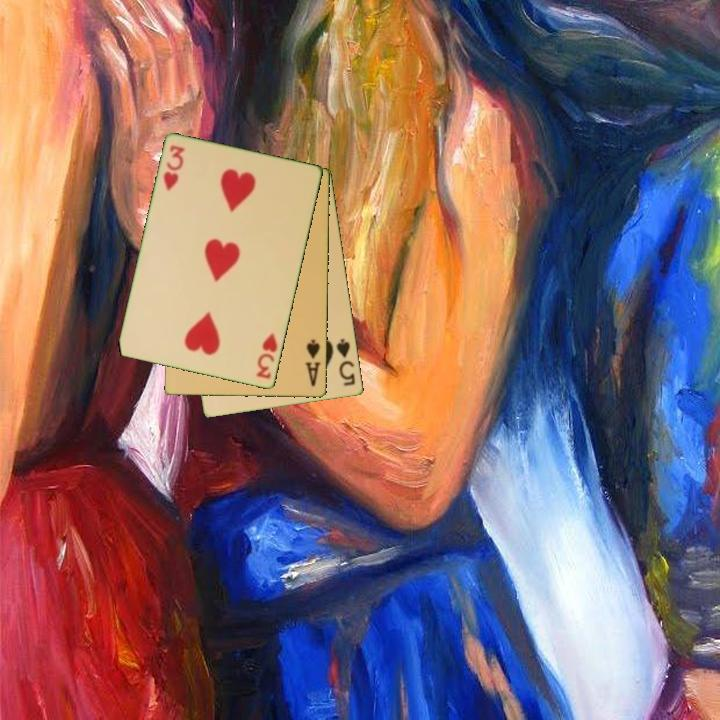3h: (253, 330, 281, 382), (160, 142, 188, 194)
5s: (333, 335, 358, 389)
As: (302, 336, 324, 389)
